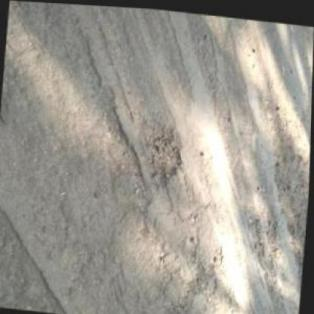Hueco: (146, 122, 185, 187)
